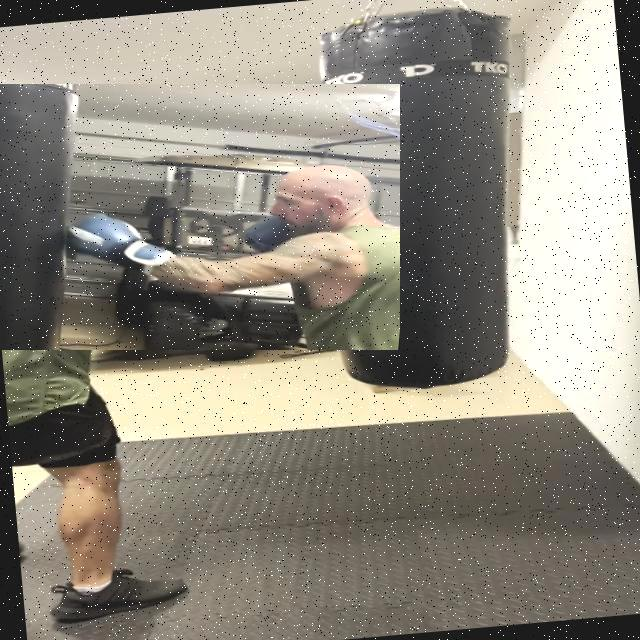punch: (0, 84, 400, 350)
